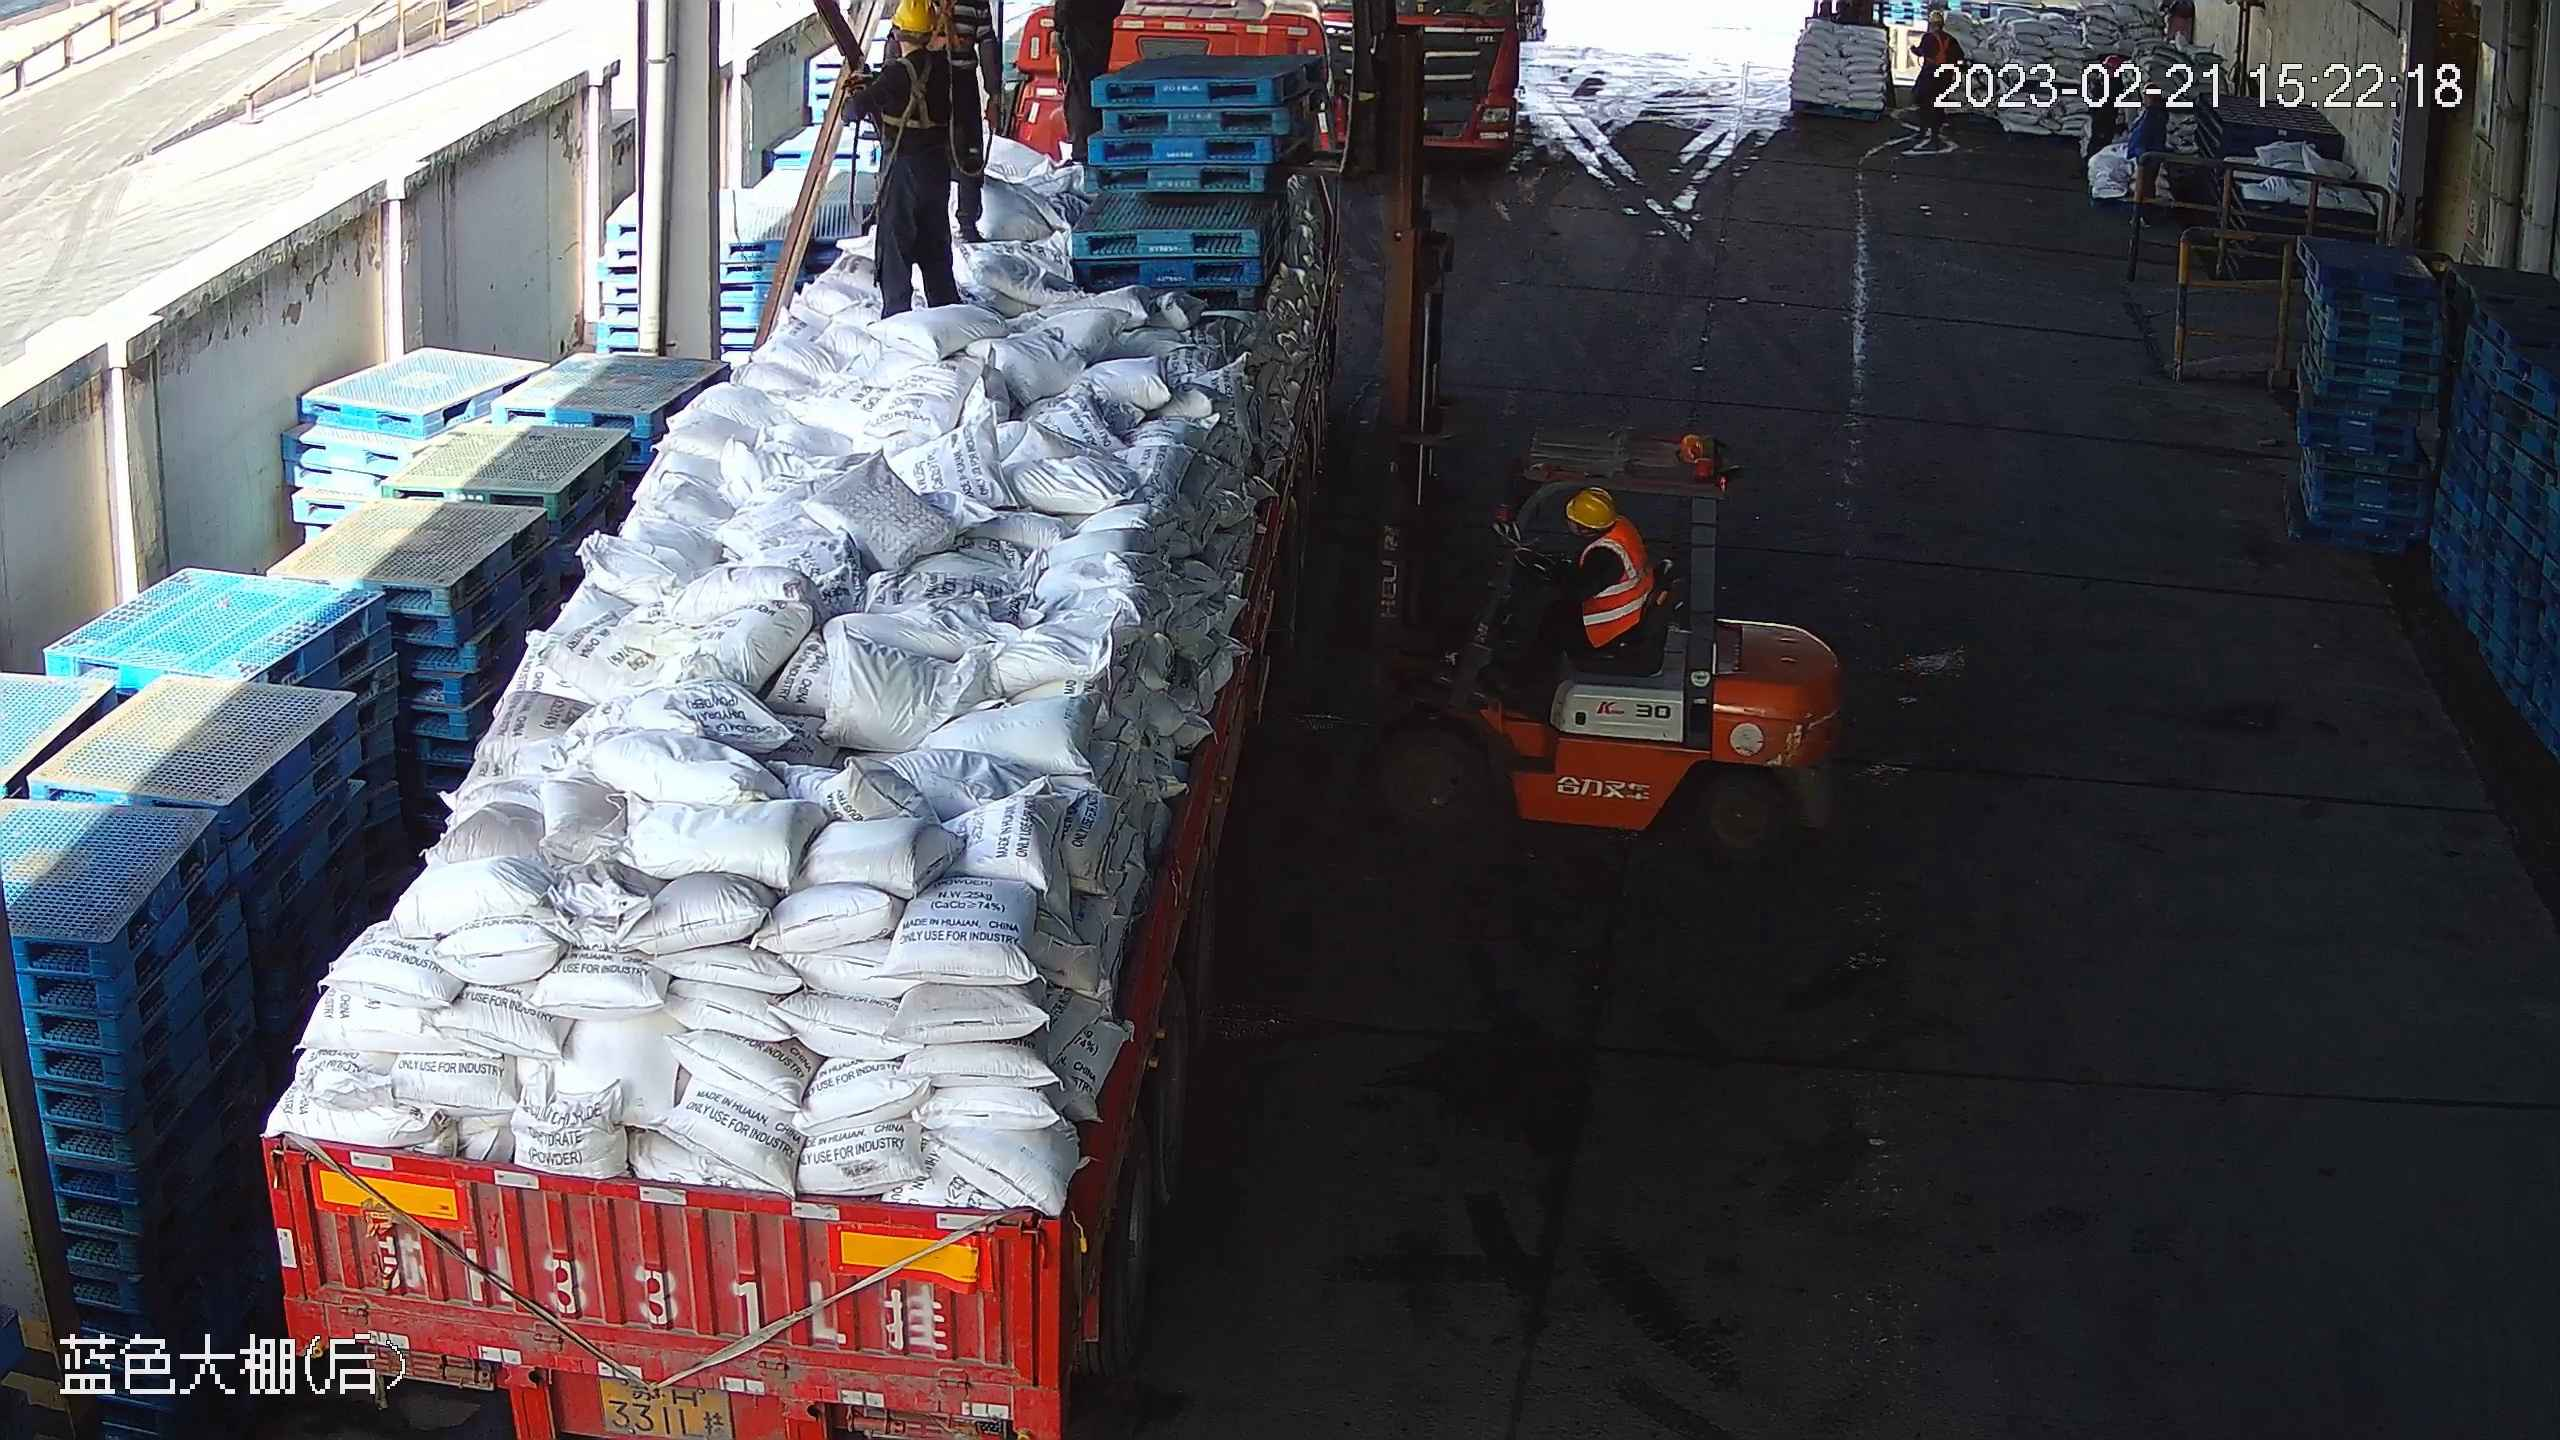belt: (889, 57, 956, 123)
head: (1551, 487, 1641, 566), (878, 1, 949, 88)
helmet: (1560, 485, 1611, 536), (886, 4, 930, 39)
people: (840, 2, 968, 318), (1509, 484, 1660, 700)
truck: (268, 1, 1428, 1426)
